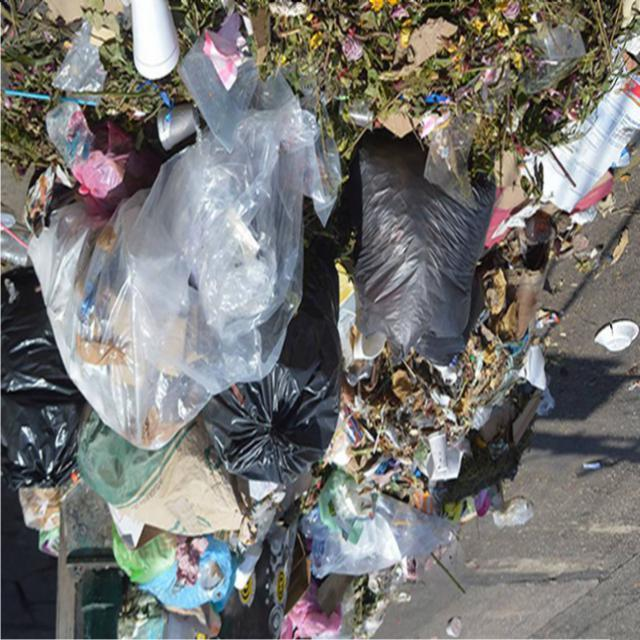Trashbag: (349, 142, 476, 365), (0, 301, 80, 494), (232, 380, 326, 482)
